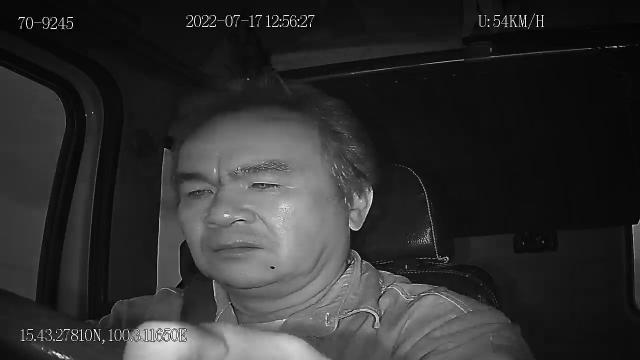SafeDriving: (238, 169, 293, 198), (178, 175, 220, 205)
Seatbelt: (178, 273, 220, 327)
